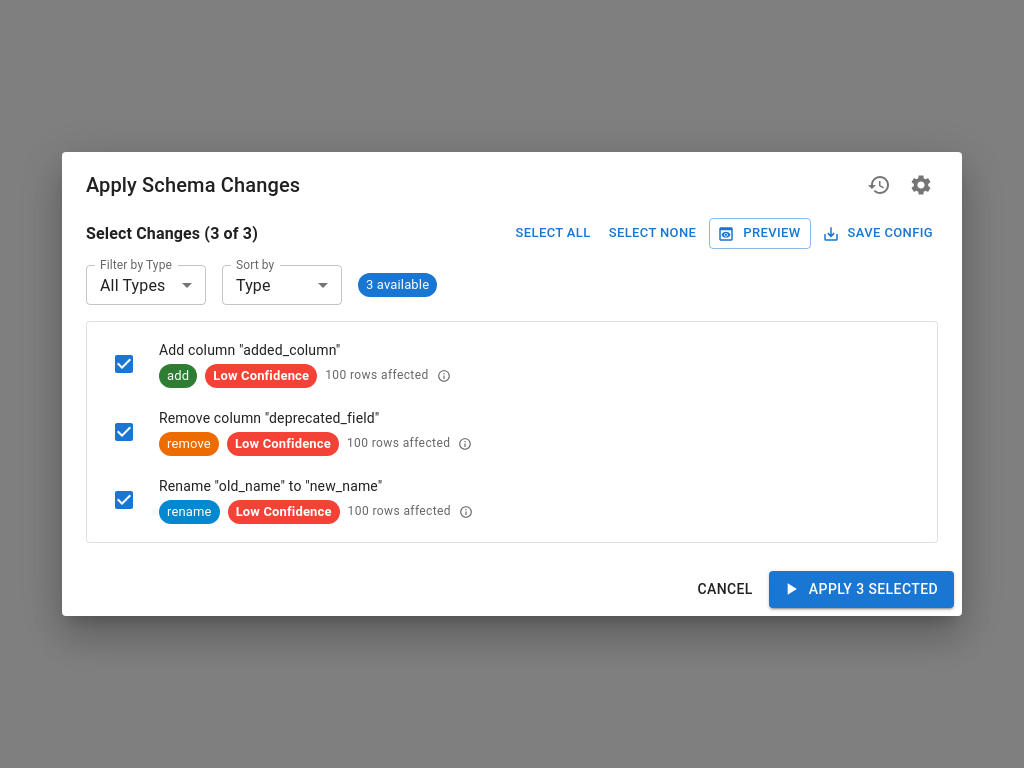
Test: BulkOperationsDialog › Change Selection › allows selecting and deselecting individual changes
// Uncheck first change
Click the checkbox next to "Add column \"added_column\"" at (124, 364), box 112,352 -> 136,376
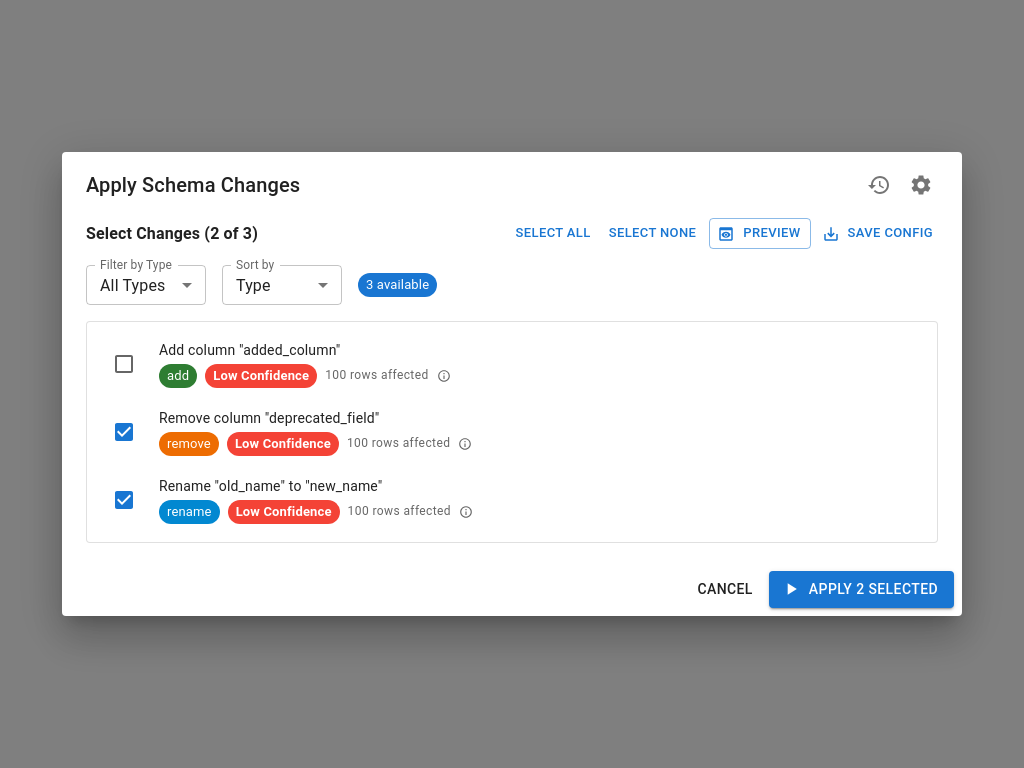
Result: the heading "Select Changes (2 of 3)" is shown at 86,220 -> 258,248
// Check it again
Click the checkbox next to "Add column \"added_column\"" at (124, 364), box 112,352 -> 136,376
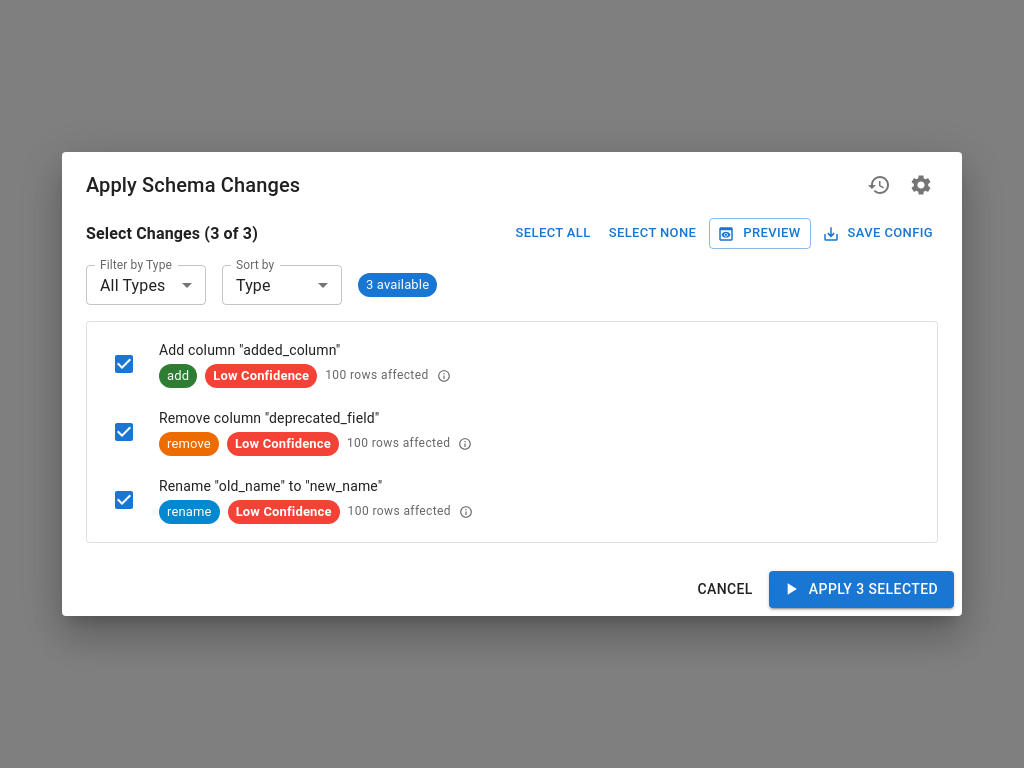
Result: the heading "Select Changes (3 of 3)" is shown at 86,220 -> 258,248
